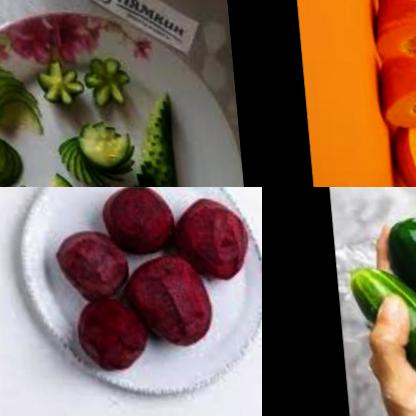beet: (165, 191, 255, 279), (127, 253, 208, 349), (63, 291, 150, 369), (50, 226, 127, 299), (94, 187, 173, 258)
cucumber: (342, 263, 416, 416), (105, 77, 189, 187), (30, 43, 134, 120), (376, 206, 416, 396), (47, 105, 136, 187), (0, 56, 42, 125), (0, 122, 31, 187), (0, 173, 85, 187)
pumpkin: (361, 0, 416, 71), (369, 51, 416, 128), (383, 108, 416, 187)
